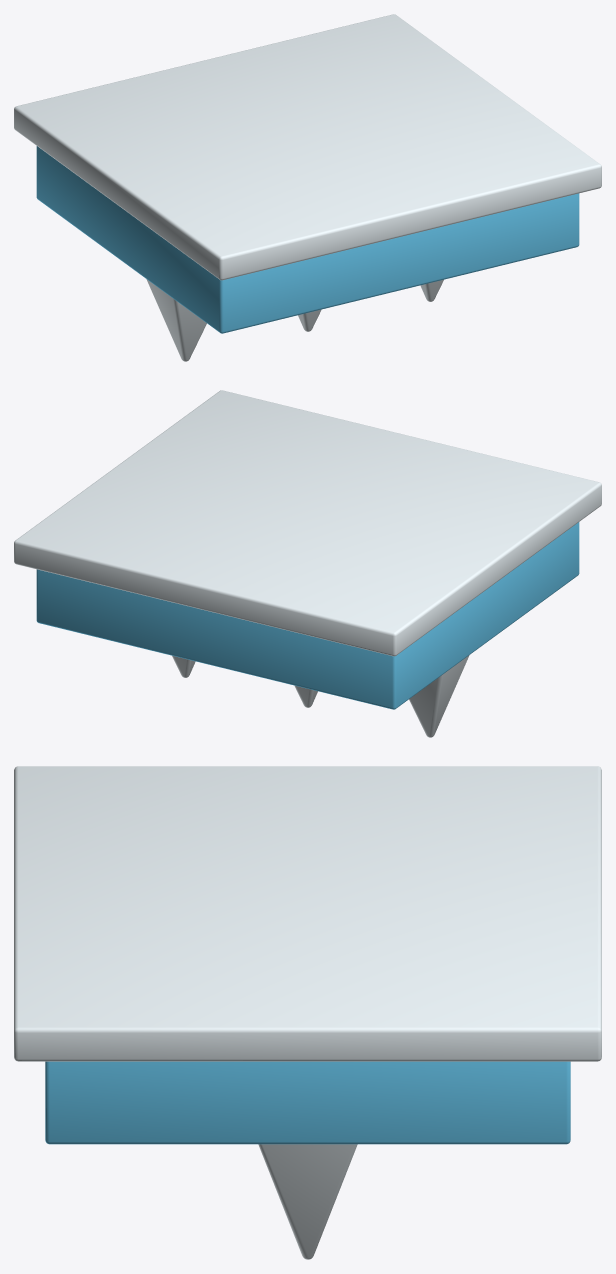
The model's file is SM_Platform_Ice.fbx.
3 renders of one model, top to bottom at view 1: azimuth 30°, elevation 25°; view 2: azimuth 150°, elevation 25°; view 3: azimuth 270°, elevation 25°, orthographic. The views are drawn at different scales.
Visible parts, largest first — view 1: SM_Platform_Ice; view 2: SM_Platform_Ice; view 3: SM_Platform_Ice.
Part boxes in pixels (box(x1,y1,x2,y2)): SM_Platform_Ice: box(14, 14, 601, 361); SM_Platform_Ice: box(14, 390, 601, 737); SM_Platform_Ice: box(14, 766, 601, 1259).
Bounding box in the file's own units: 100 × 94 × 49.
